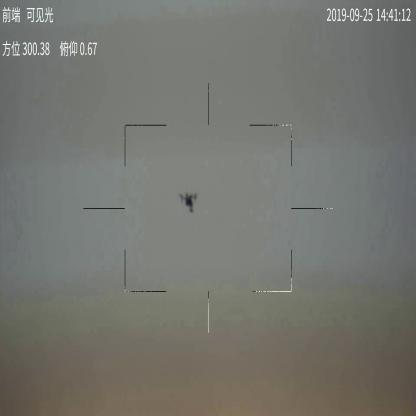uav: (176, 189, 197, 214)
